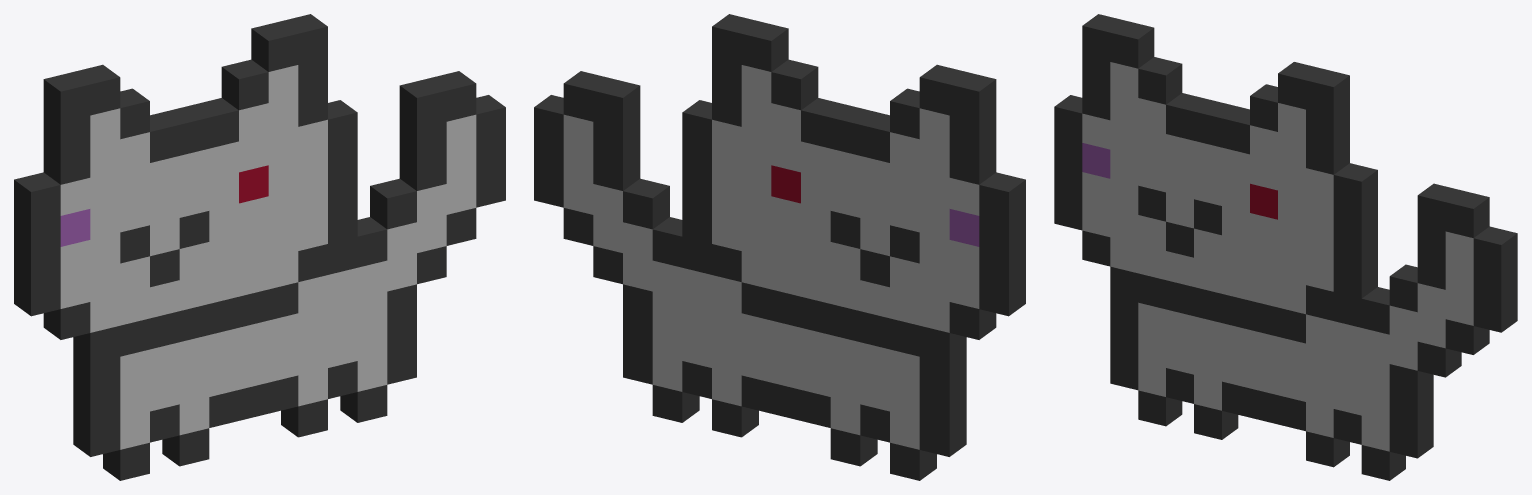
Rendered from smol-cat-white.gltf.
3 renders of one model, left to right at view 1: azimuth 30°, elevation 25°; view 2: azimuth 150°, elevation 25°; view 3: azimuth 330°, elevation 25°, orthographic. The views are drawn at different scales.
Parts seen in each view (by area): view 1: node 1; view 2: node 1; view 3: node 1.
Boxes of the visible parts, bbox=[...] form: node 1: bbox=[14, 14, 505, 480]; node 1: bbox=[534, 14, 1025, 480]; node 1: bbox=[1054, 14, 1517, 480].
Bounding box in the file's own units: 16 × 13 × 1.
Materials: 1 (1 with a texture image).
